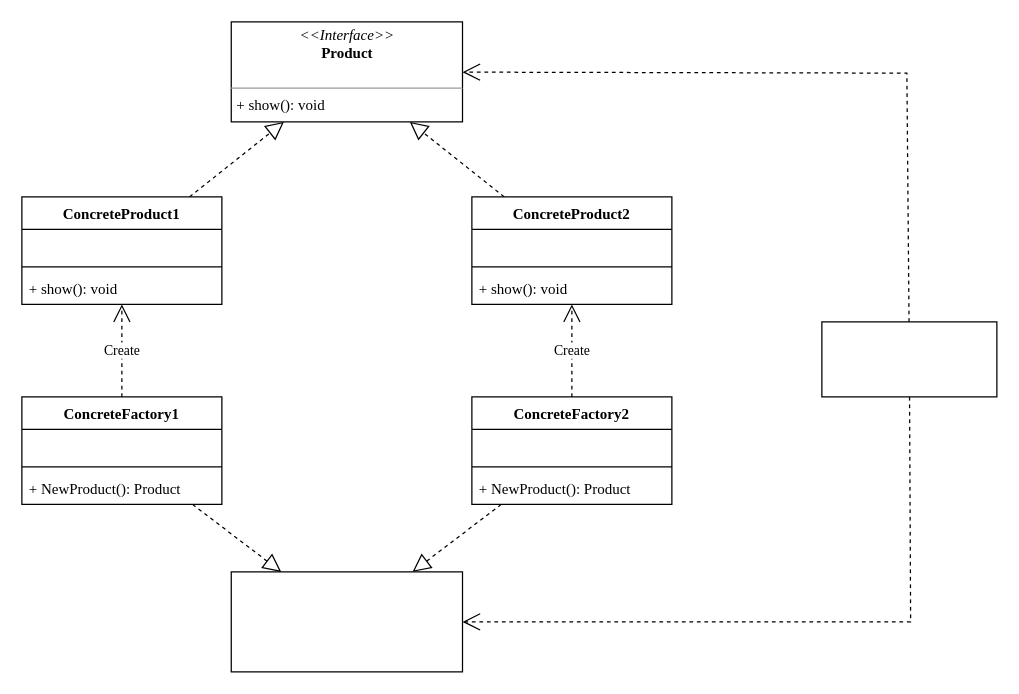
This 1019x694 diagram has some shape labels left out. Here are the shapes that lost their labels. From the top down, the centre of each, then its label:
At (909,359): "Client".
At (346,621): "<<Interface>> AbstractFactory + NewProduct(): Product".
